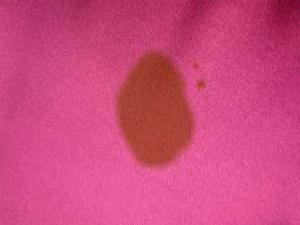stain: (117, 48, 197, 174), (194, 78, 209, 91), (189, 60, 203, 71)
